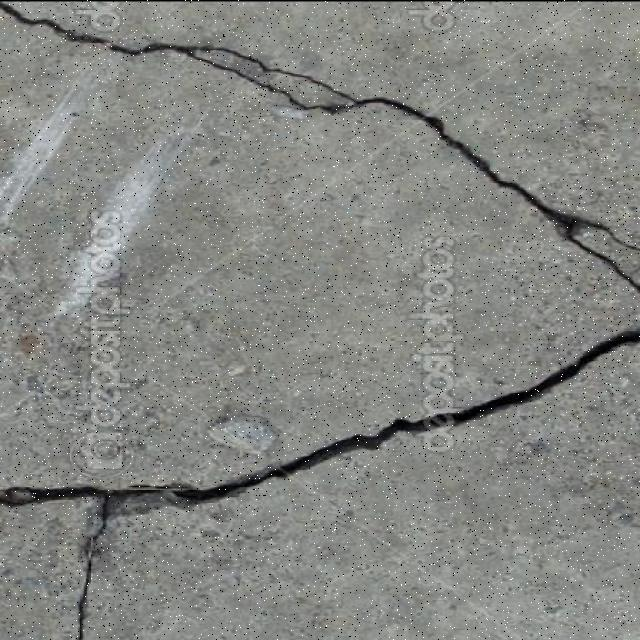Crack: (0, 0, 640, 292), (170, 328, 639, 505), (0, 485, 166, 539), (77, 558, 93, 640)
